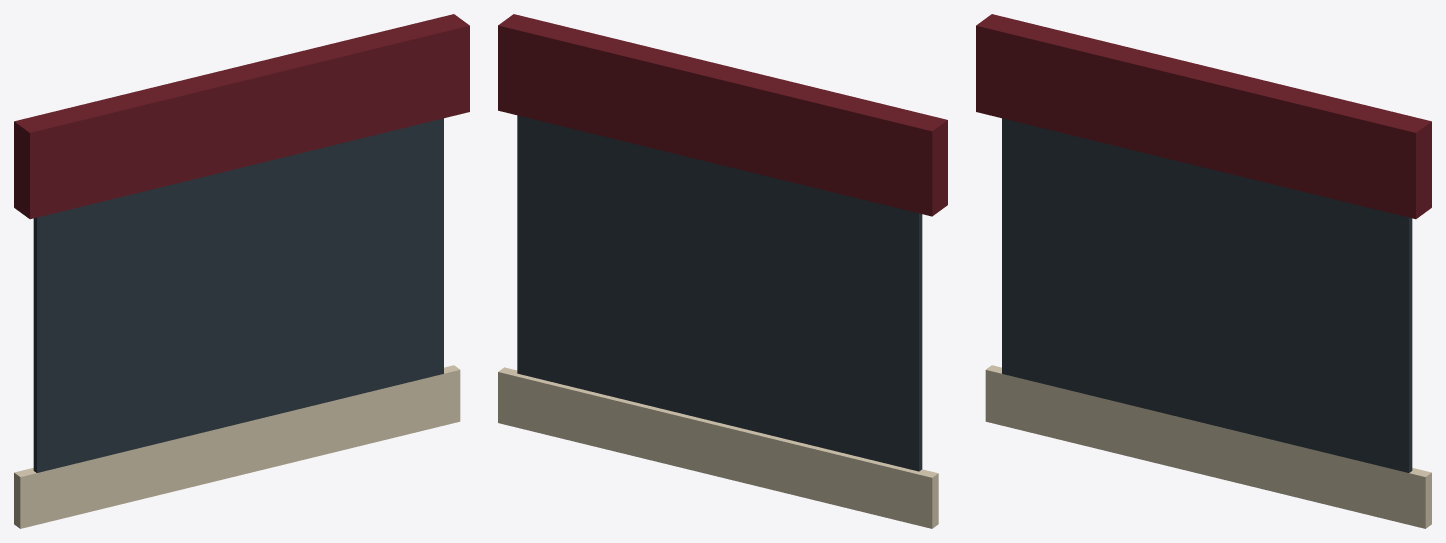
Rendered from anchor-bay.glb.
3 views of the same model, side by side, from view 1: azimuth 30°, elevation 25°; view 2: azimuth 150°, elevation 25°; view 3: azimuth 330°, elevation 25° (orthographic).
Visible parts, largest first — view 1: anchor-bay; view 2: anchor-bay; view 3: anchor-bay.
Boxes of the visible parts, x1=… form: anchor-bay: x1=14, y1=14, x2=469, y2=528; anchor-bay: x1=498, y1=14, x2=947, y2=528; anchor-bay: x1=976, y1=14, x2=1431, y2=528.
Bounding box in the file's own units: 4 × 3.5 × 0.25.
